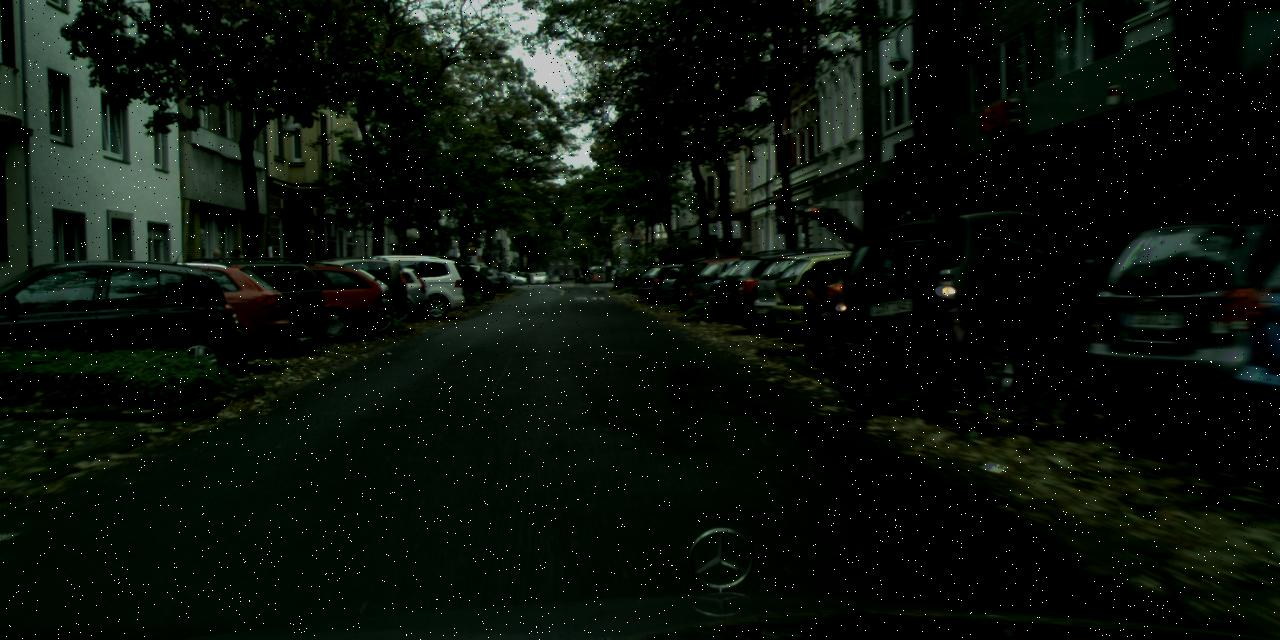ped: (203, 248, 236, 328), (223, 248, 256, 327)
